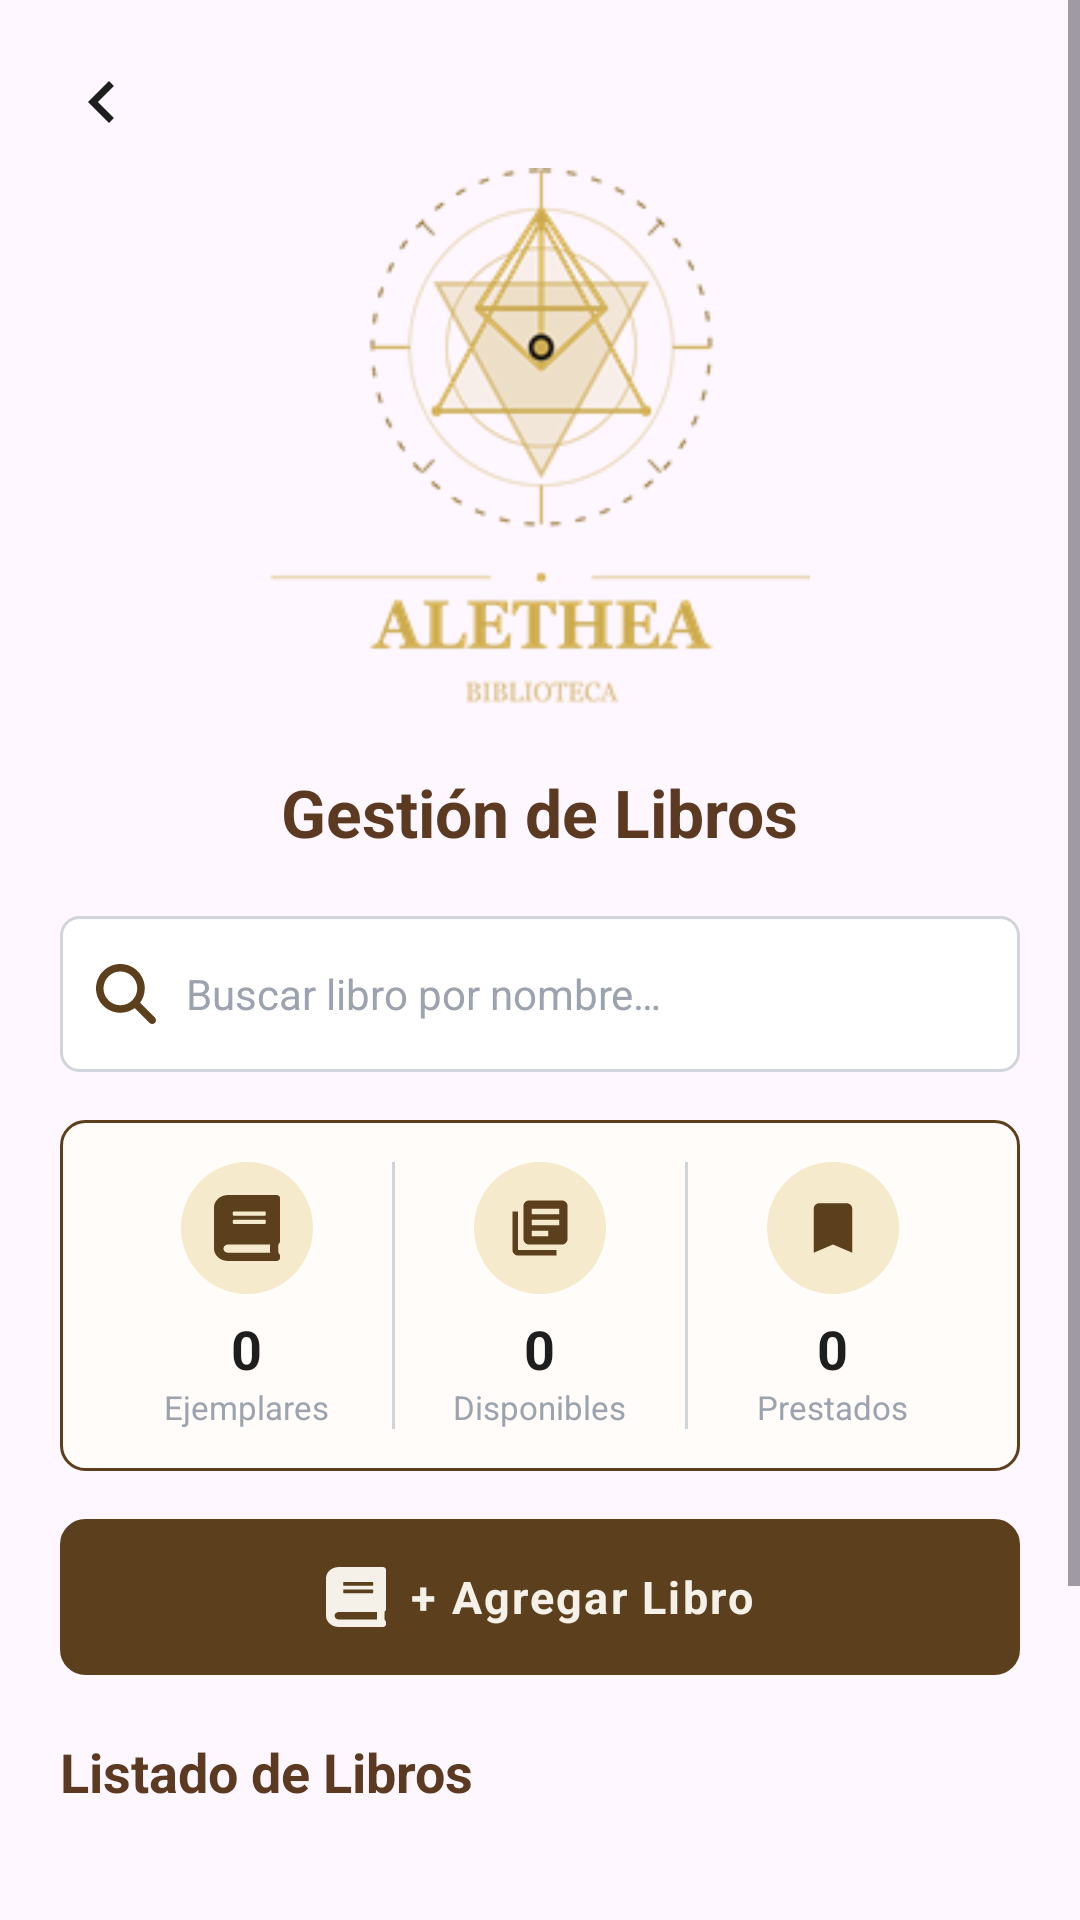

Named icons in this screenshot (1080x1920) and their bounding boxes, (x1, y1, x2, y2):
Atrás: (88, 81, 114, 123)
Buscar un libro del catálogo: (96, 964, 156, 1024)
